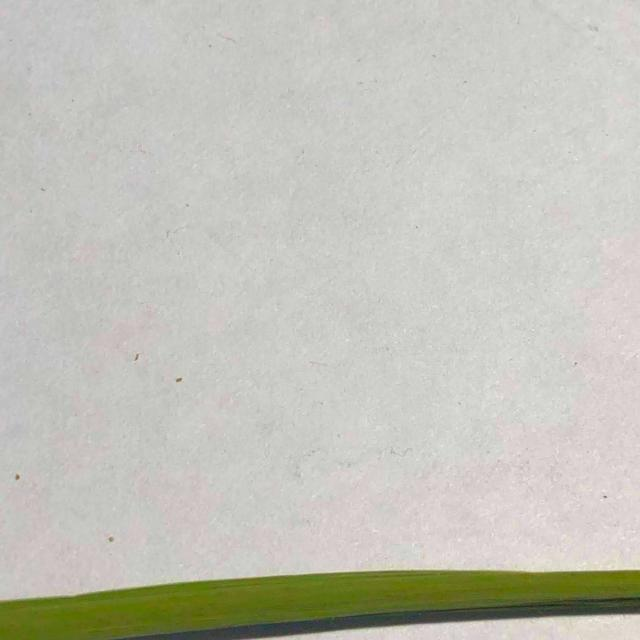Rice_Healthy: (0, 570, 640, 640)
